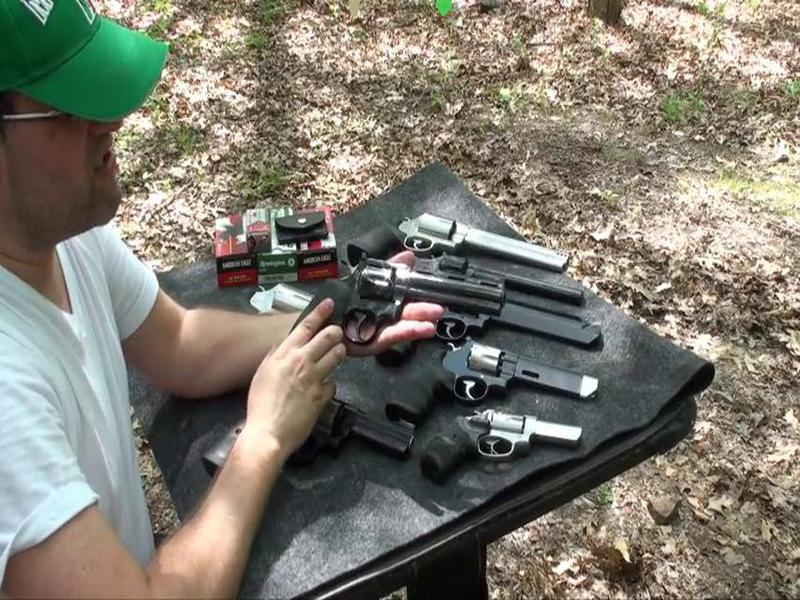Revolver: (273, 252, 526, 374)
